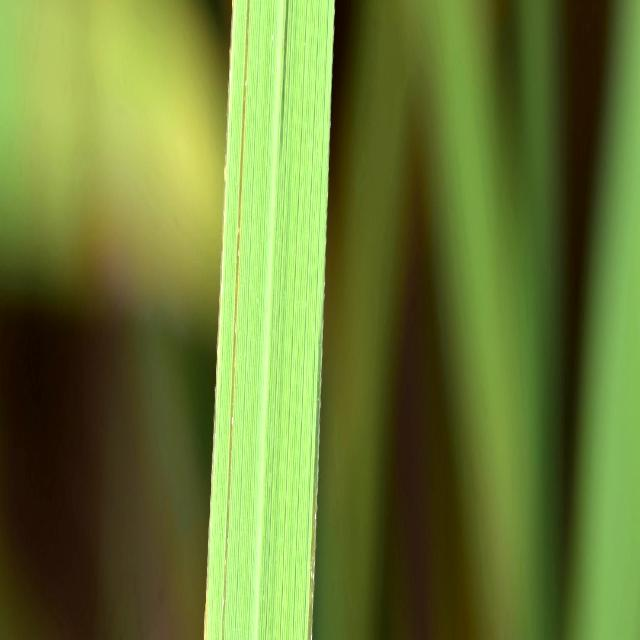BLS: (222, 0, 250, 637), (308, 227, 327, 637), (280, 0, 289, 149)
